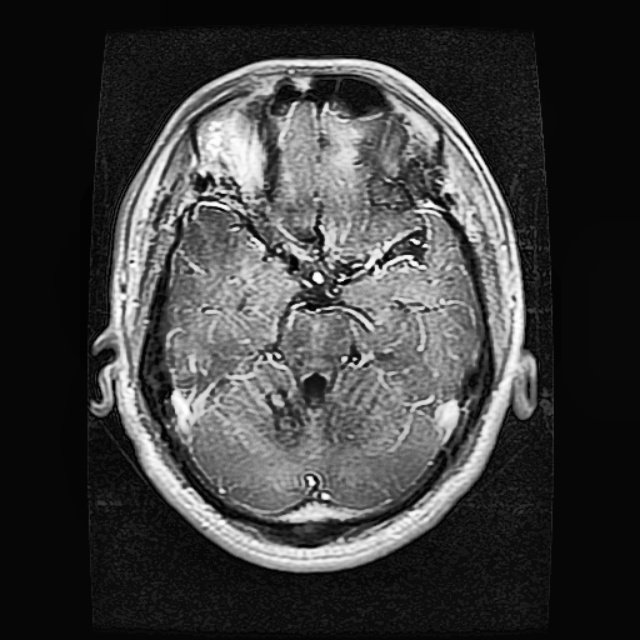Pituitary: (357, 112, 440, 209)
